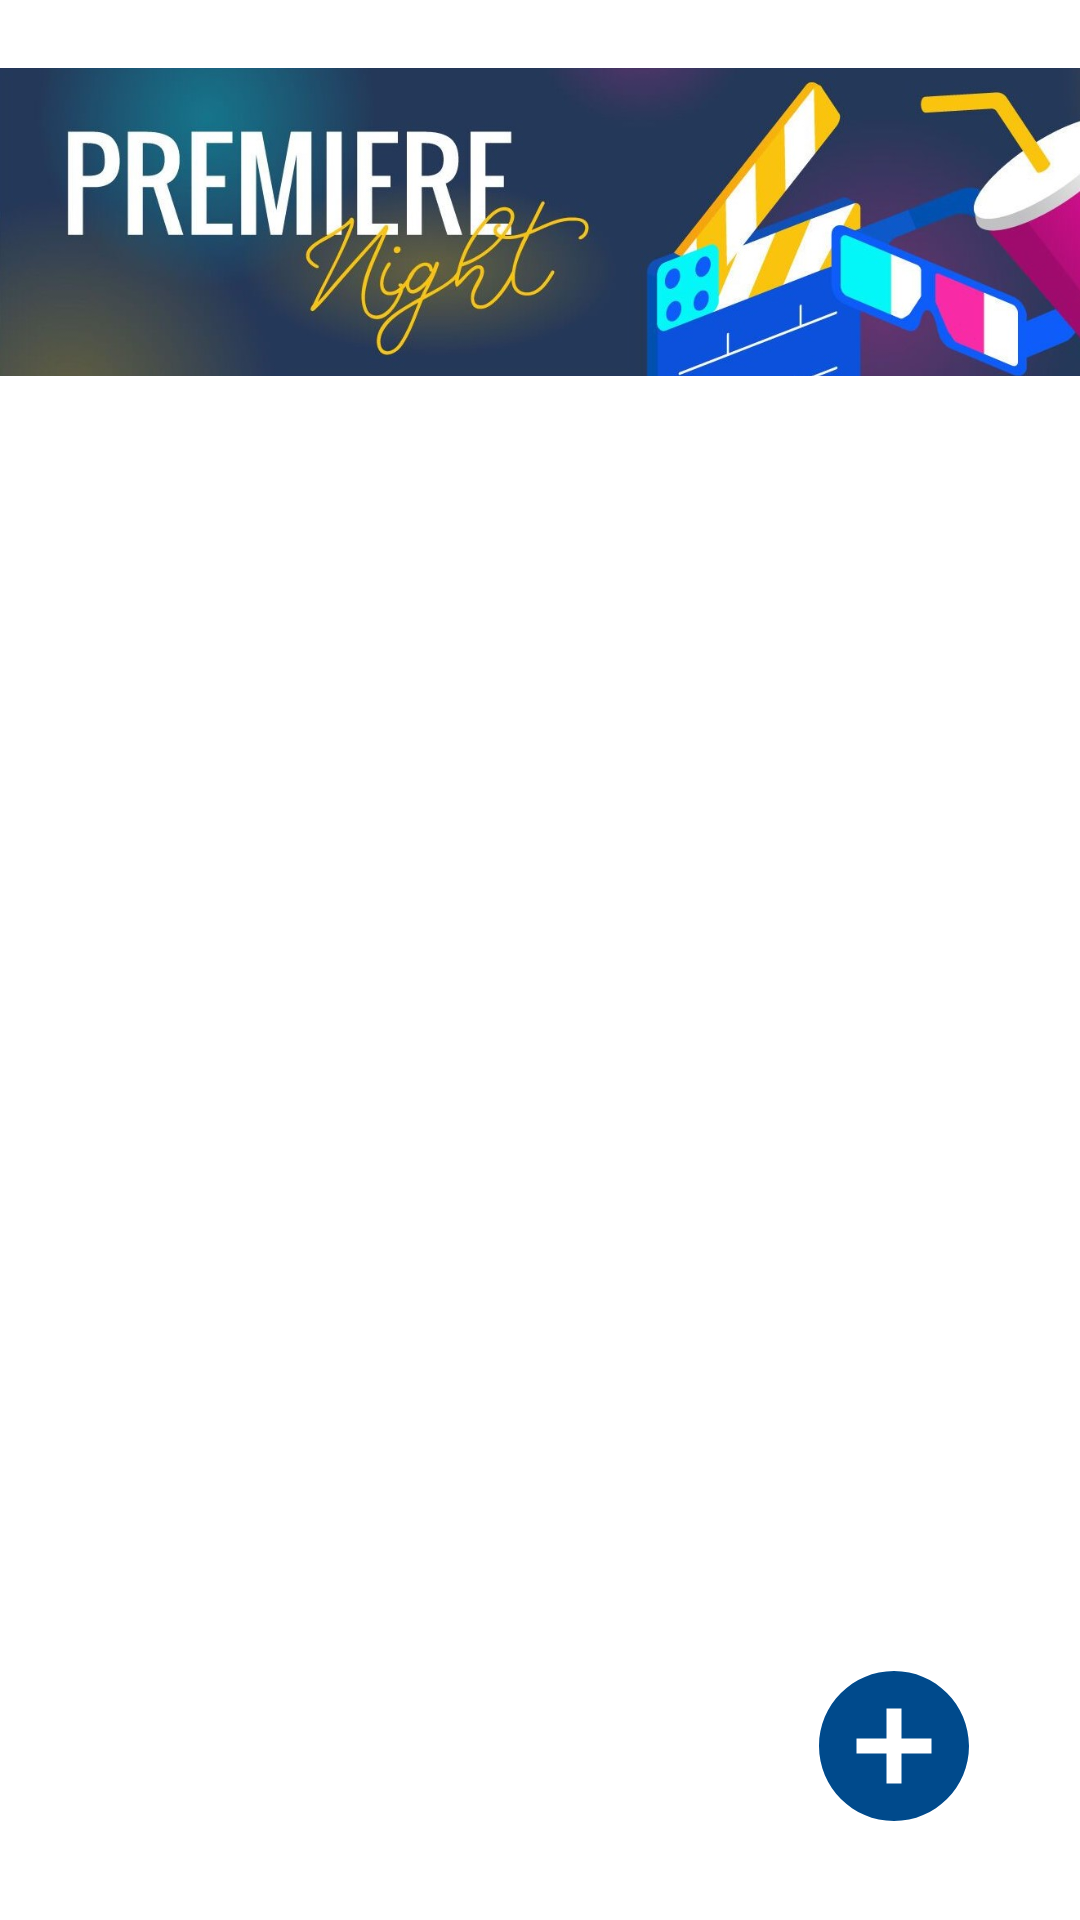

Point at icon controls on the screen. Image size 1080x1920, points as point (x, y).
add: point (894, 1746)
